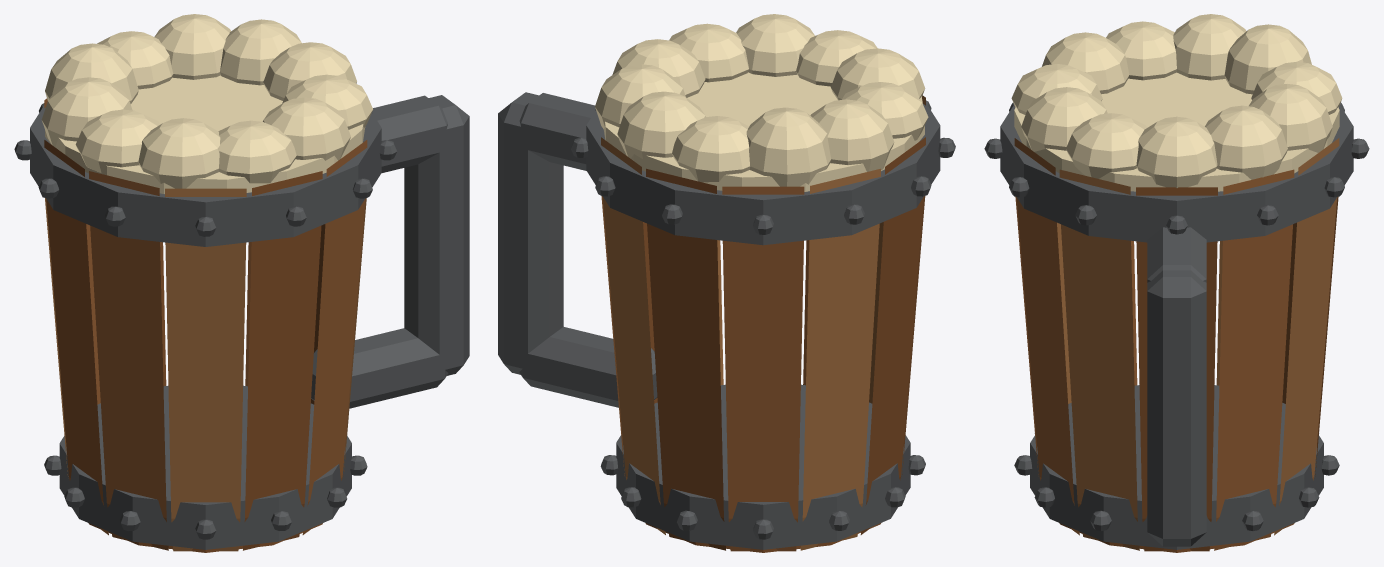
The model's file is Tankard_FirstPass.glb.
3 renders of one model, left to right at view 1: azimuth 30°, elevation 25°; view 2: azimuth 150°, elevation 25°; view 3: azimuth 270°, elevation 25°, orthographic.
Visible parts, largest first — view 1: WoodenStave.008, WoodenStave.007, WoodenStave.009, IronBand.001, HandleSide, IronBand, WoodenStave.010, WoodenStave.006, FoamSurface, HandleBottom, FoamBubble.007, FoamBubble.008 (+12 smaller); view 2: WoodenStave.004, WoodenStave.003, WoodenStave.005, IronBand.001, HandleSide, IronBand, WoodenStave.006, WoodenStave.002, FoamSurface, HandleBottom, FoamBubble.004, FoamBubble.005 (+12 smaller); view 3: WoodenStave.001, WoodenStave.011, HandleSide, IronBand.001, IronBand, WoodenStave.002, WoodenStave.010, FoamSurface, WoodenStave, FoamBubble, FoamBubble.001, FoamBubble.010 (+15 smaller).
Boxes of the visible parts, x1,y1,x2,y2 form: WoodenStave.008: (165,188,246,551); WoodenStave.007: (89,171,168,550); WoodenStave.009: (243,171,322,550); IronBand.001: (30,105,381,246); HandleSide: (404,95,469,375); IronBand: (59,385,351,549); WoodenStave.010: (302,140,367,534); WoodenStave.006: (44,140,108,535); FoamSurface: (45,75,365,193); HandleBottom: (311,328,448,408); FoamBubble.007: (138,118,220,188); FoamBubble.008: (218,120,296,183); WoodenStave.004: (722,186,804,551); WoodenStave.003: (646,168,725,550); WoodenStave.005: (800,168,880,550); IronBand.001: (586,103,940,245); HandleSide: (498,92,563,374); IronBand: (616,384,910,549); WoodenStave.006: (860,137,925,534); WoodenStave.002: (601,137,665,534); FoamSurface: (604,72,924,191); HandleBottom: (519,327,657,407); FoamBubble.004: (746,107,830,186); FoamBubble.005: (810,99,894,171); WoodenStave.001: (1214,169,1294,550); WoodenStave.011: (1059,169,1139,550); HandleSide: (1147,270,1206,546); IronBand.001: (1000,105,1353,242); IronBand: (1030,385,1323,549); WoodenStave.002: (1274,138,1339,535); WoodenStave.010: (1014,138,1079,535); FoamSurface: (1014,72,1339,191); WoodenStave: (1136,187,1217,551); FoamBubble: (1136,116,1217,187); FoamBubble.001: (1205,105,1287,179); FoamBubble.010: (1066,113,1146,178).
Size of the model in its own units: 2.47 by 2.41 by 1.94.
